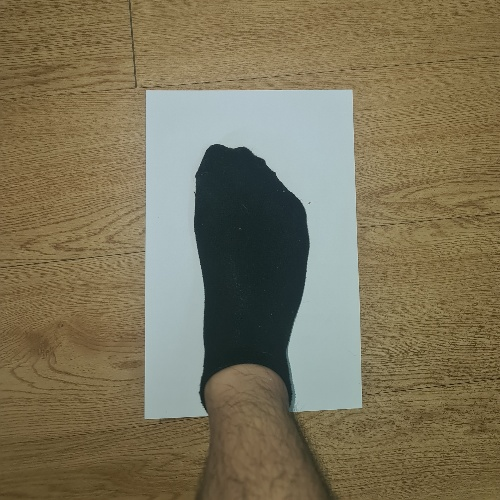Top_Foot: (108, 67, 403, 437)
